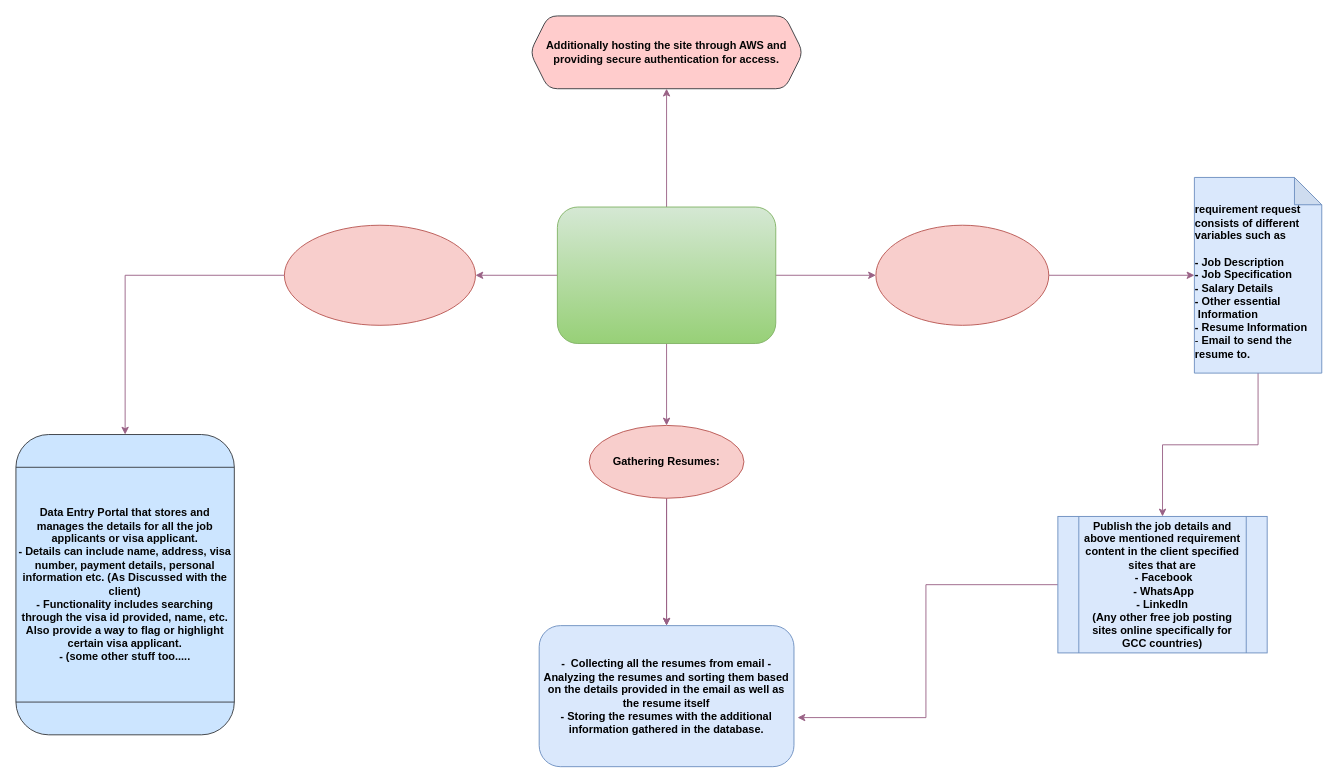
Some shapes in this 1338 by 783 pixel diagram are drawn without their labels. The centre of each missing label's shape, as x and y in pixels:
Create Job Availability Request: the point at 962,274
Specified Requirements :: the point at 666,275
Visa Detail Entry Portal: the point at 379,274
